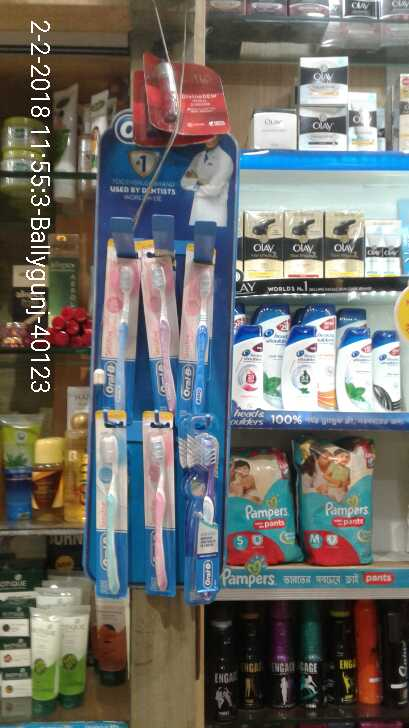beauty: (281, 325, 321, 412), (336, 327, 372, 413), (294, 54, 351, 108), (243, 207, 284, 282), (322, 209, 365, 278), (234, 321, 265, 413), (284, 208, 324, 279), (295, 105, 348, 149), (371, 330, 399, 413), (253, 106, 297, 150), (344, 107, 379, 155), (365, 219, 383, 277)
pharmacy: (286, 444, 374, 576), (220, 447, 298, 572), (180, 417, 222, 604), (141, 416, 178, 598), (98, 243, 136, 417), (90, 414, 126, 596), (176, 249, 211, 407), (154, 246, 186, 409)
